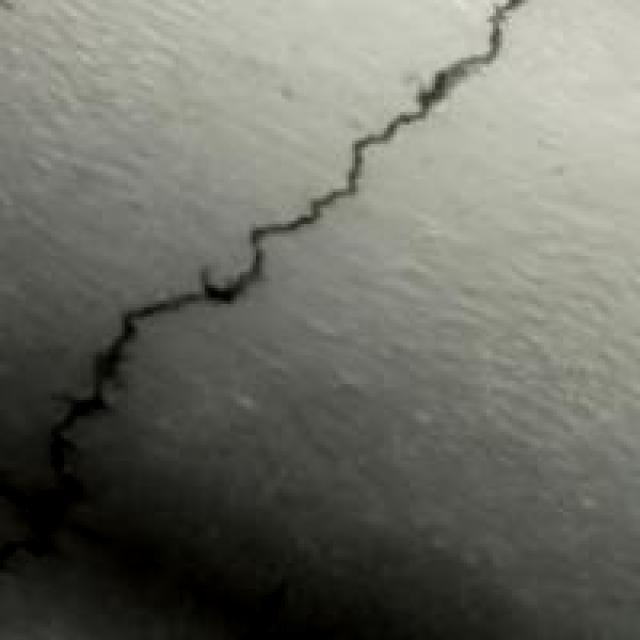crack: (0, 0, 544, 584)
